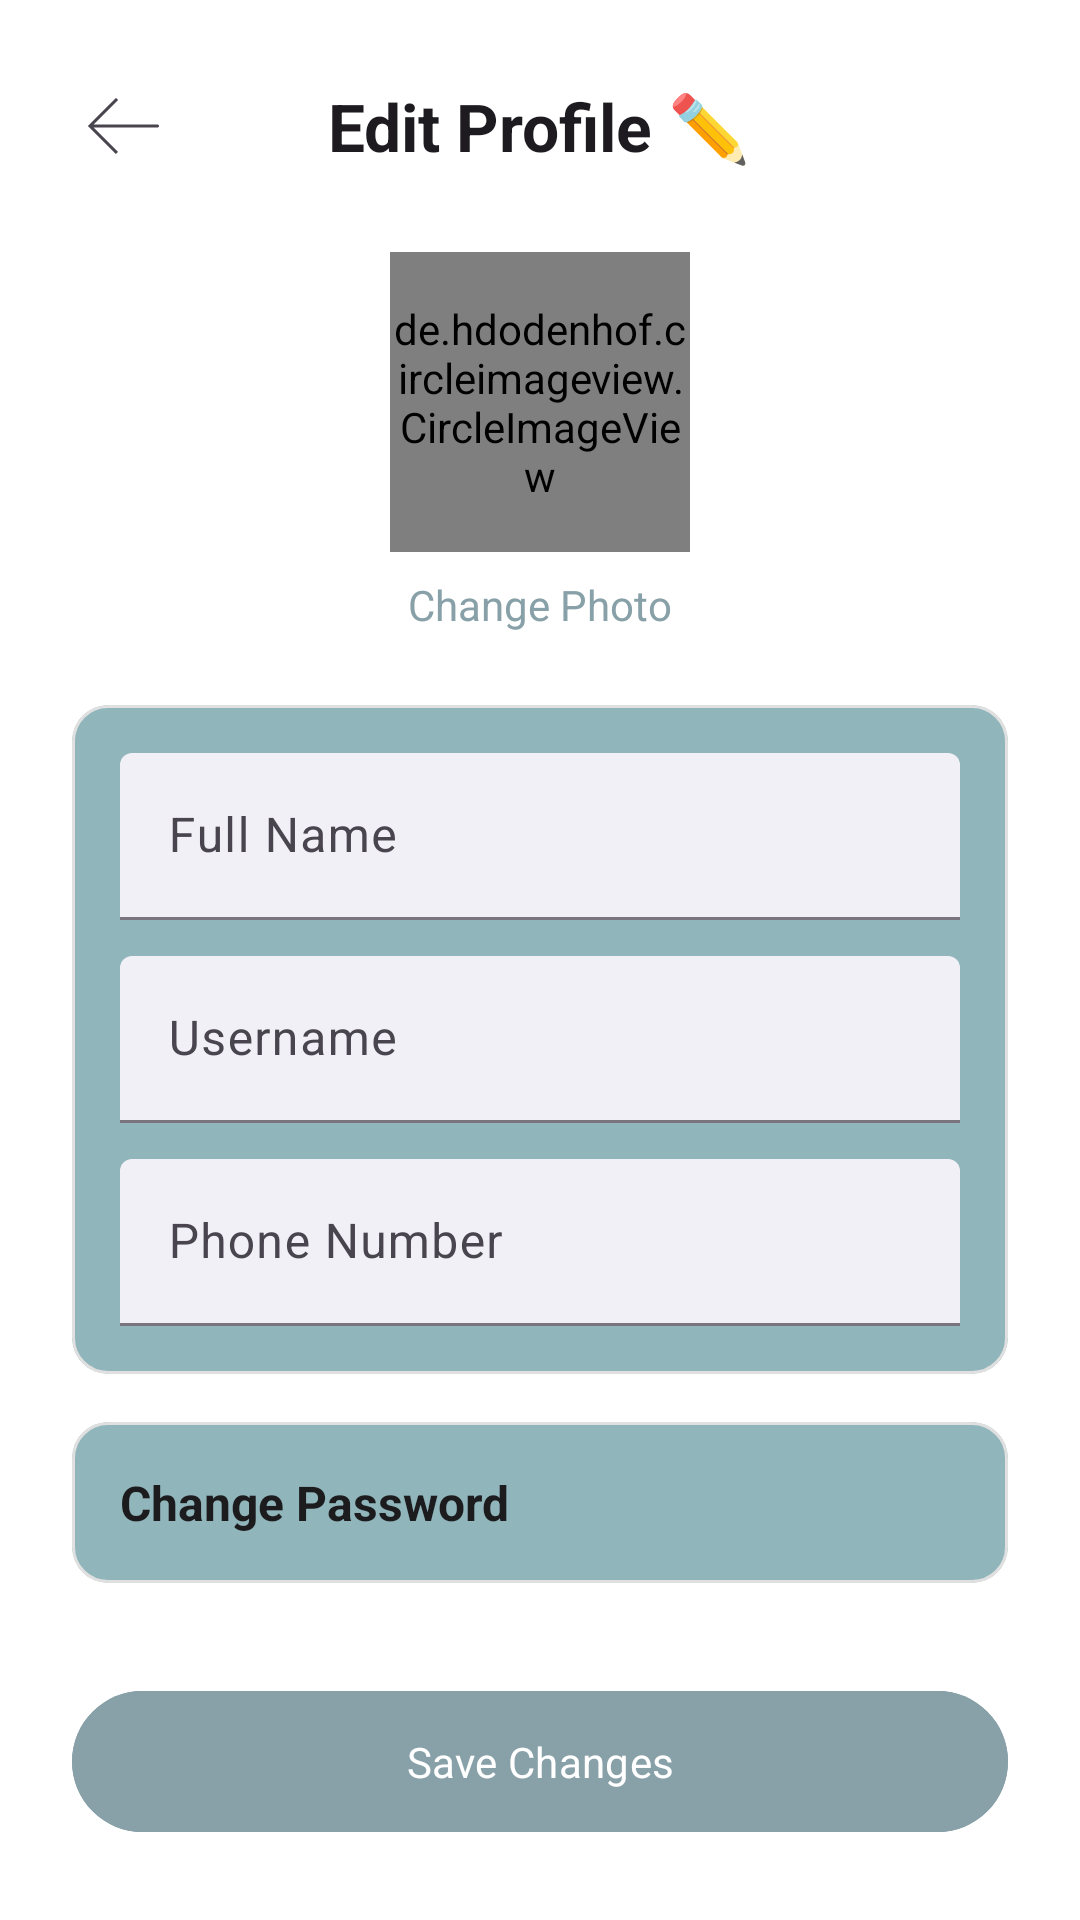

Screen size 1080 × 1920. Icon name, then its center in pixels as [x,y]:
arrow back: [123,126]
